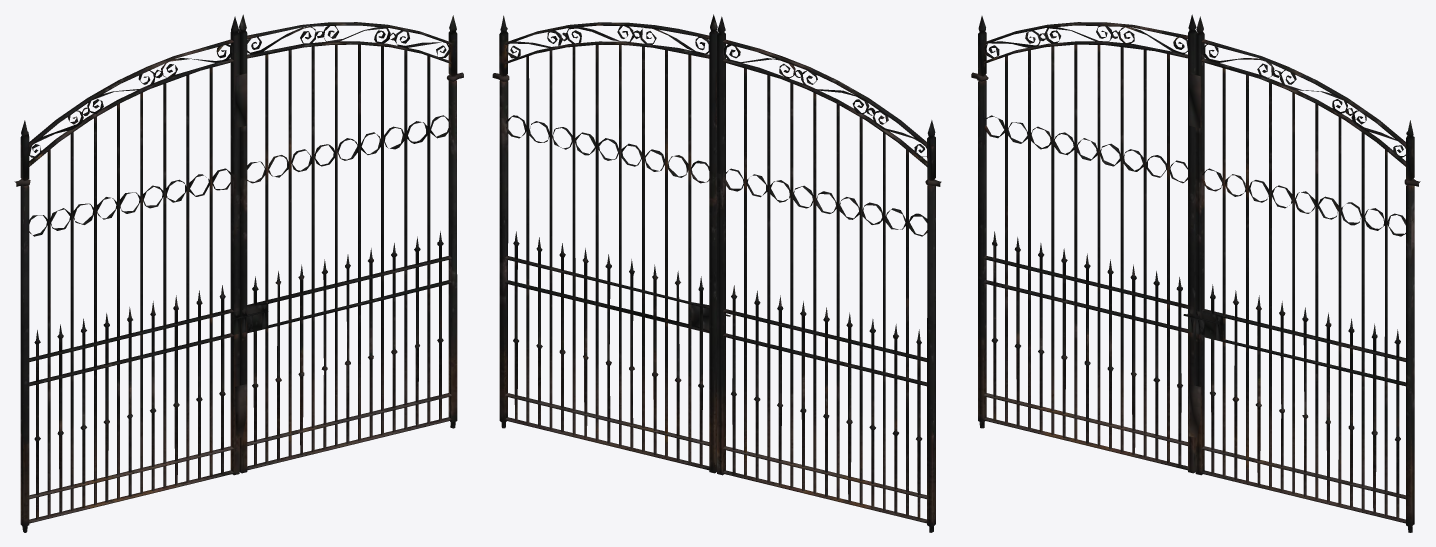
Rendered from large_iron_gate.glb.
The picture shows the model from 3 angles, left to right: view 1: azimuth 30°, elevation 25°; view 2: azimuth 150°, elevation 25°; view 3: azimuth 330°, elevation 25°; orthographic projection.
Parts seen in each view (by area): view 1: large_iron_gate_right_door; view 2: large_iron_gate_right_door; view 3: large_iron_gate_right_door.
Boxes of the visible parts, x1,y1,x2,y2 form: large_iron_gate_right_door: (14,14,463,532); large_iron_gate_right_door: (492,14,941,532); large_iron_gate_right_door: (971,14,1420,532).
Size of the model in its own units: 2.95 by 2.93 by 0.0948.
Materials: 1 (1 with a texture image).
